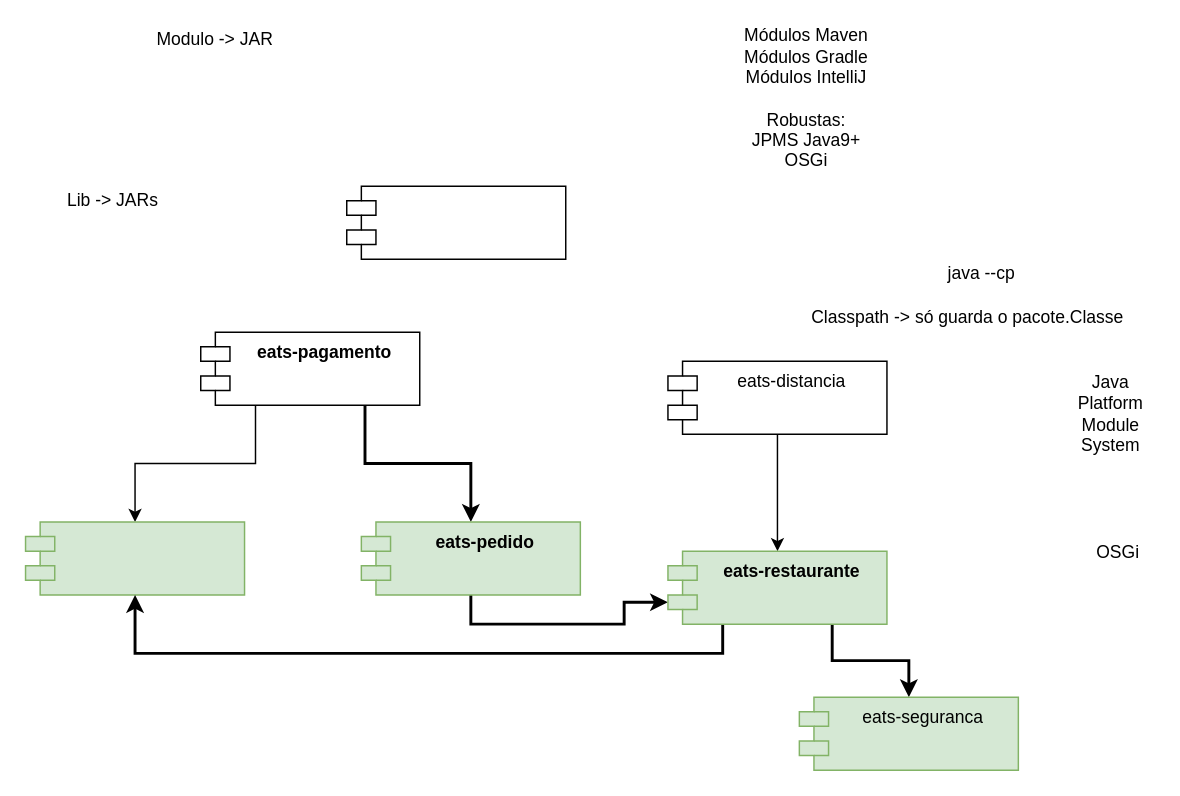
Image size: 1180x796. Some labels were removed from this diagram. The centre of each missing label's shape, as x and y in pixels:
"eats-administrativo" belongs at (x=134, y=557).
"eats-application" belongs at (x=455, y=222).
